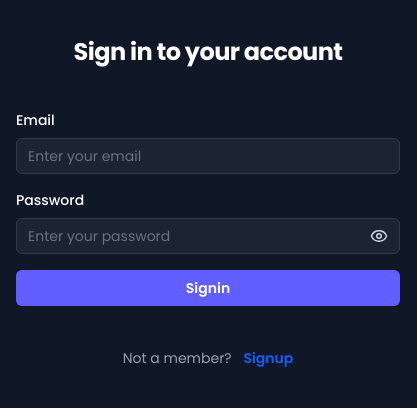
Test case: LoginForm › shows validation errors when fields are empty
The image size is (417, 408).
What coordinates should you click on to do the following:
click the button "Signin"
I would click on:
 (208, 288)
Its box is x1=16 y1=270 x2=400 y2=306.
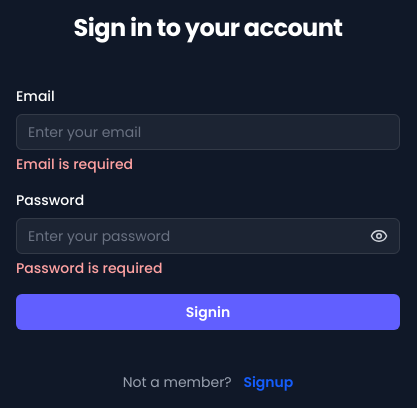
Result: the text "Email is required" is shown at x1=16 y1=154 x2=133 y2=174
Result: the text "Password is required" is shown at x1=16 y1=258 x2=162 y2=278
